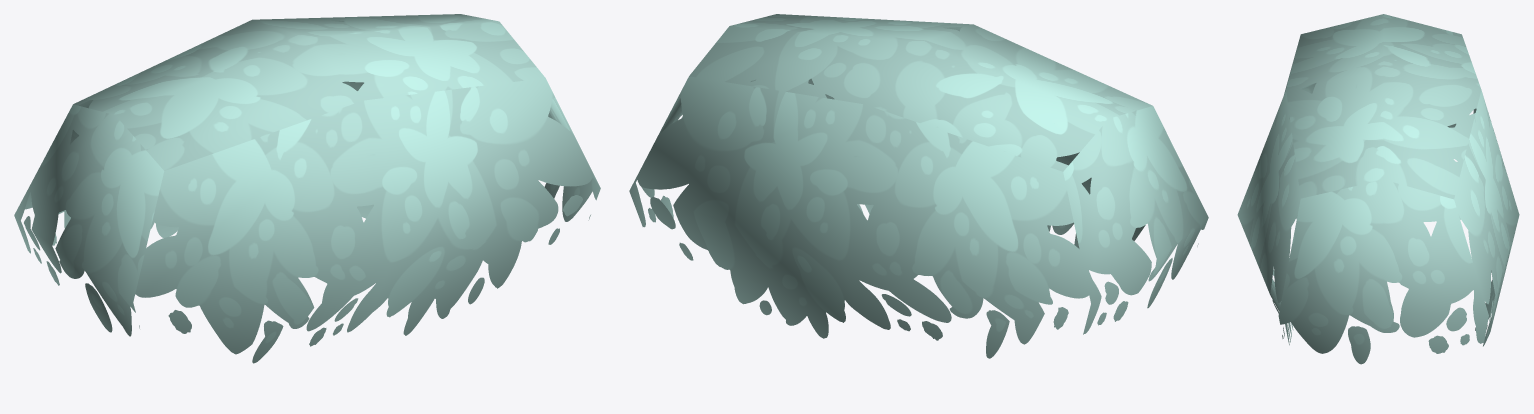
File: Buisson.fbx
3 renders of one model, left to right at view 1: azimuth 30°, elevation 25°; view 2: azimuth 150°, elevation 25°; view 3: azimuth 270°, elevation 25°, orthographic. The views are drawn at different scales.
Parts seen in each view (by area): view 1: Plane.043; view 2: Plane.043; view 3: Plane.043.
Boxes of the visible parts, left/top/right/bottom form: Plane.043: left=14, top=14, right=600, bottom=363; Plane.043: left=629, top=14, right=1208, bottom=358; Plane.043: left=1237, top=14, right=1519, bottom=364.
Size of the model in its own units: 169 by 89.87 by 94.32.
